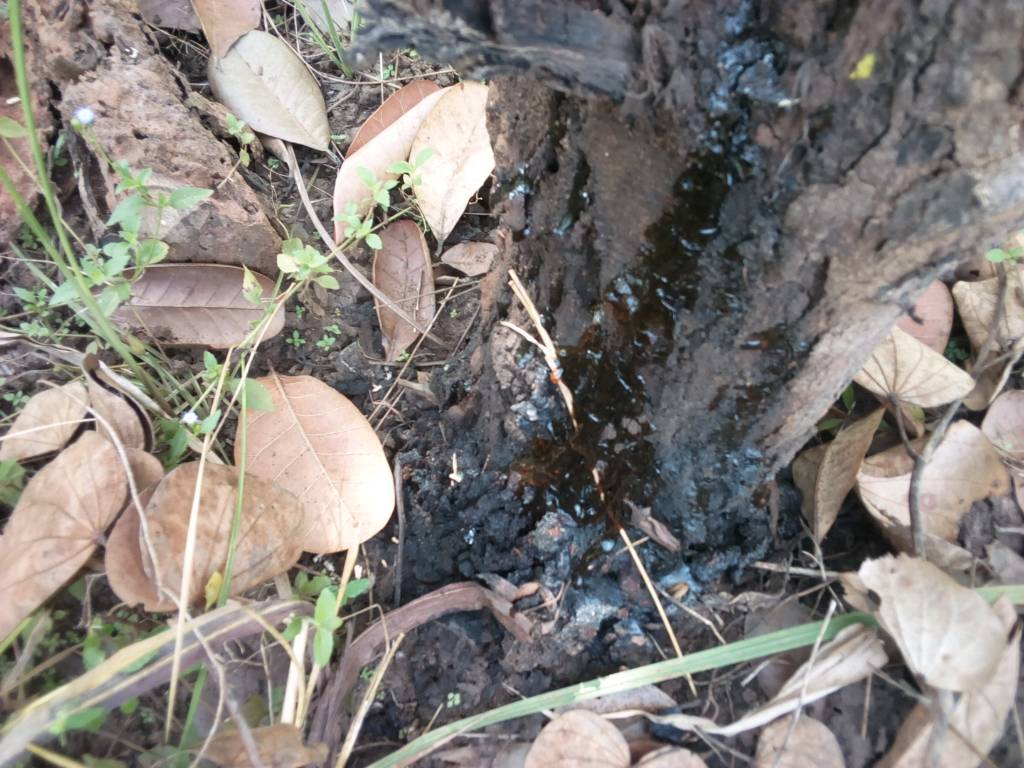Gommose: (522, 70, 813, 558)
